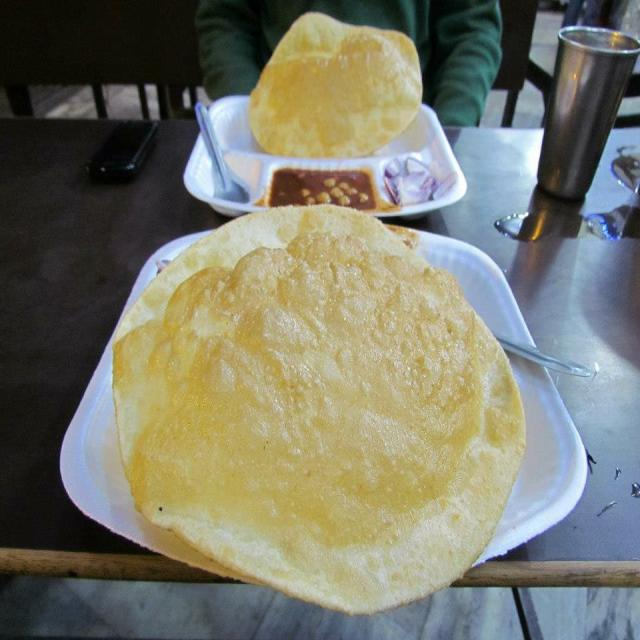Bhatura: (112, 203, 529, 616), (250, 11, 422, 156)
